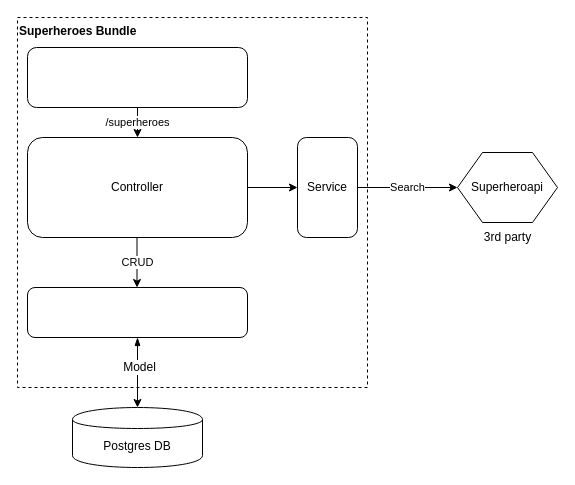
The diagram is 575 pixels wide and 485 high, and some of its shapes have lost their labels. Here are the shapes that lost their labels. From the top down, the centre of each, then its label:
At pixel 137 77: "Routes".
At pixel 137 312: "Repository".
